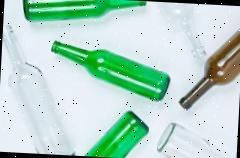glass: (48, 40, 172, 105)
